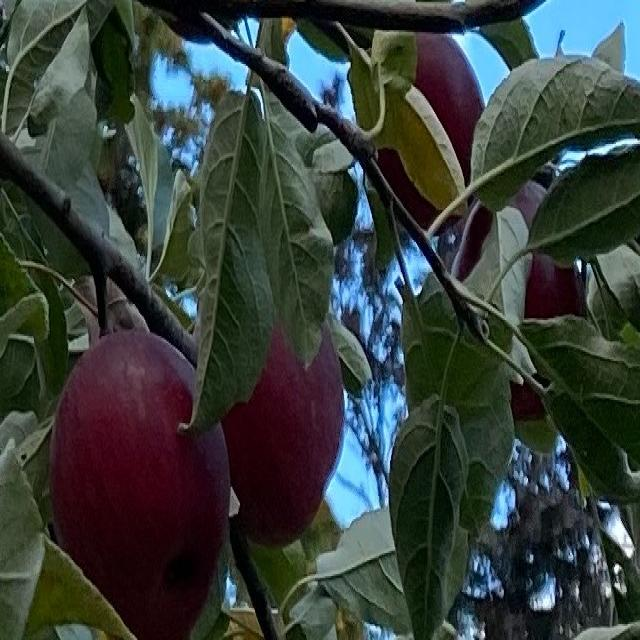100-_ripeness: (52, 334, 231, 640), (447, 183, 587, 418), (221, 316, 347, 548), (377, 32, 486, 228)
